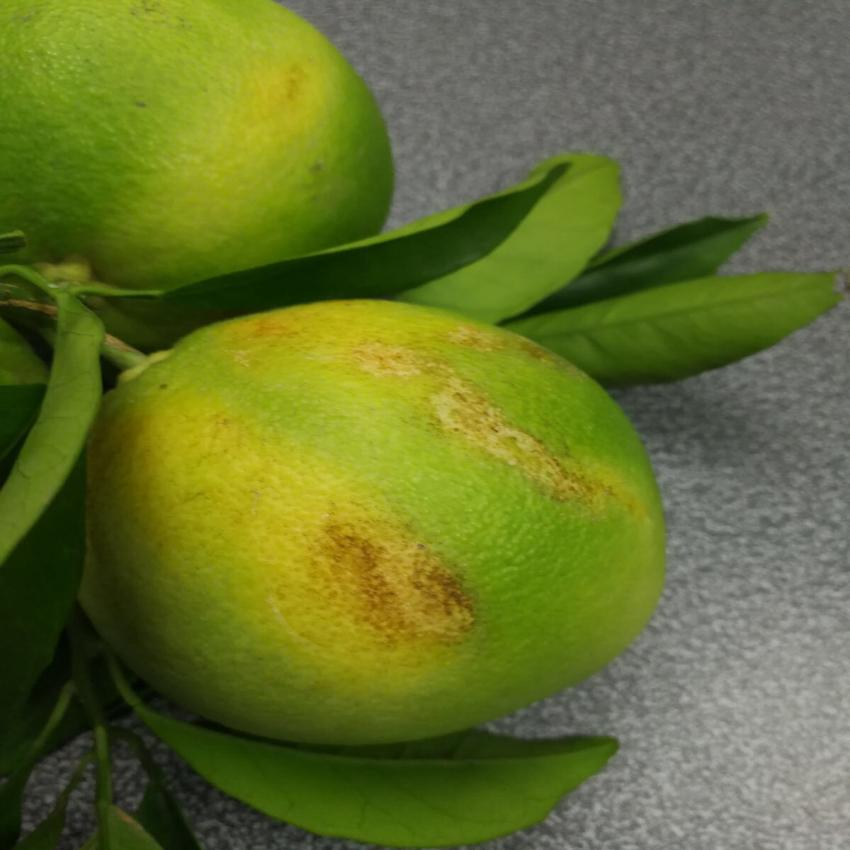Mal estado: (70, 293, 678, 736)
